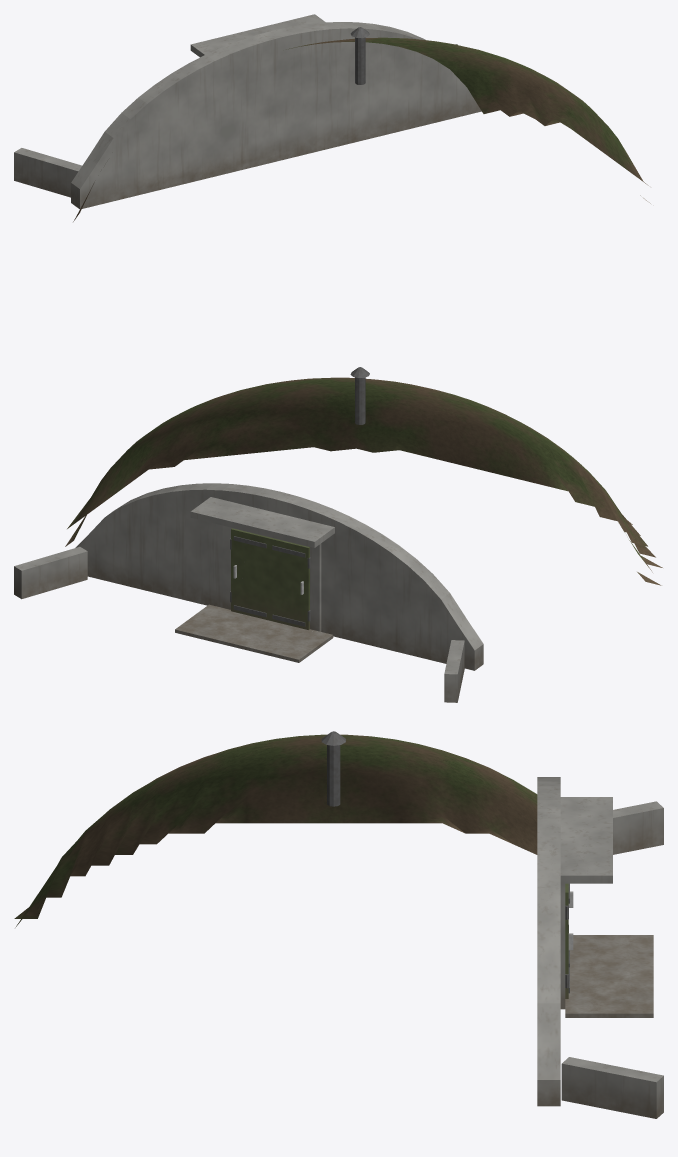
The model's file is ammo_bunker.glb.
The picture shows the model from 3 angles, top to bottom: view 1: azimuth 30°, elevation 25°; view 2: azimuth 150°, elevation 25°; view 3: azimuth 270°, elevation 25°; orthographic projection. The views are drawn at different scales.
Parts seen in each view (by area): view 1: headwall, mound; view 2: headwall, mound, ammo_door_L, ammo_door_R; view 3: mound, headwall, ammo_door_R.
Boxes of the visible parts, left/top/right/bottom form: headwall: left=14, top=14, right=481, bottom=209; mound: left=73, top=37, right=650, bottom=221; headwall: left=14, top=367, right=483, bottom=702; mound: left=65, top=377, right=662, bottom=585; ammo_door_L: left=269, top=537, right=310, bottom=629; ammo_door_R: left=230, top=528, right=270, bottom=620; mound: left=14, top=734, right=537, bottom=927; headwall: left=321, top=731, right=663, bottom=1118; ammo_door_R: left=565, top=883, right=573, bottom=998.
Bounding box in the file's own units: 13 × 4.75 × 11.18.
1 material, 1 textured.
